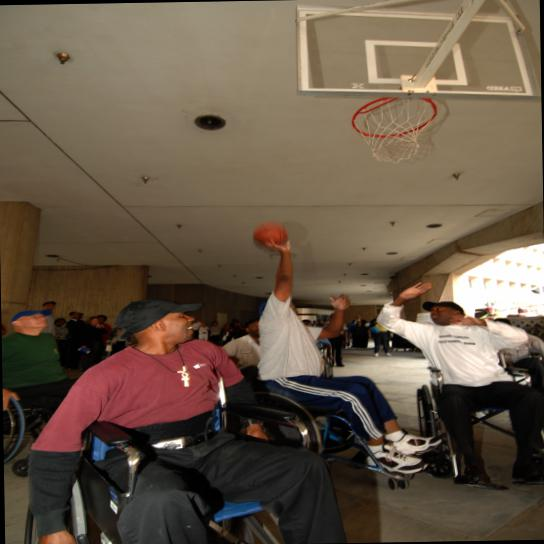basketball-hoop: (346, 92, 445, 164)
